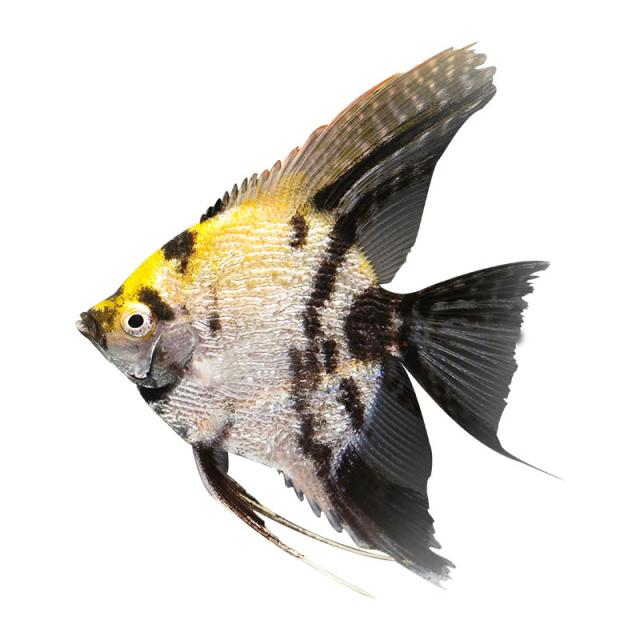AngelFish: (77, 46, 531, 583)
